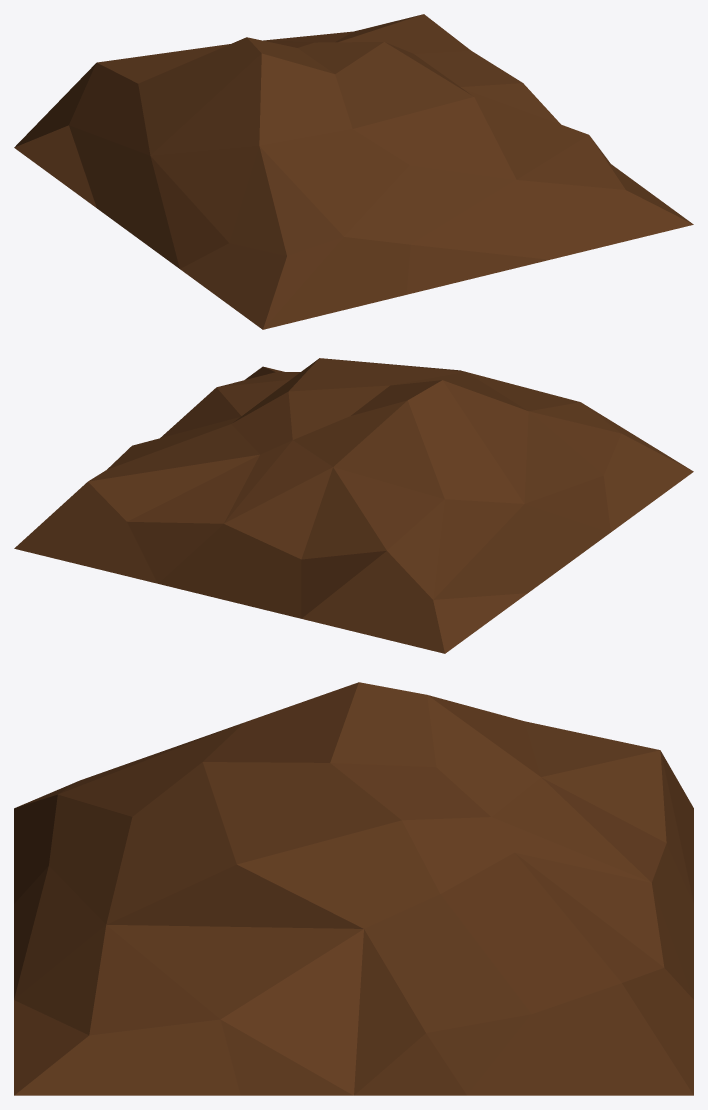
File: Rocher_B.FBX
3 renders of one model, top to bottom at view 1: azimuth 30°, elevation 25°; view 2: azimuth 150°, elevation 25°; view 3: azimuth 270°, elevation 25°, orthographic. The views are drawn at different scales.
Parts seen in each view (by area): view 1: Rocher_B; view 2: Rocher_B; view 3: Rocher_B.
Boxes of the visible parts, x1=… form: Rocher_B: x1=14, y1=14, x2=693, y2=329; Rocher_B: x1=14, y1=358, x2=693, y2=653; Rocher_B: x1=14, y1=682, x2=693, y2=1095.
Size of the model in its own units: 3 by 1.02 by 3.
